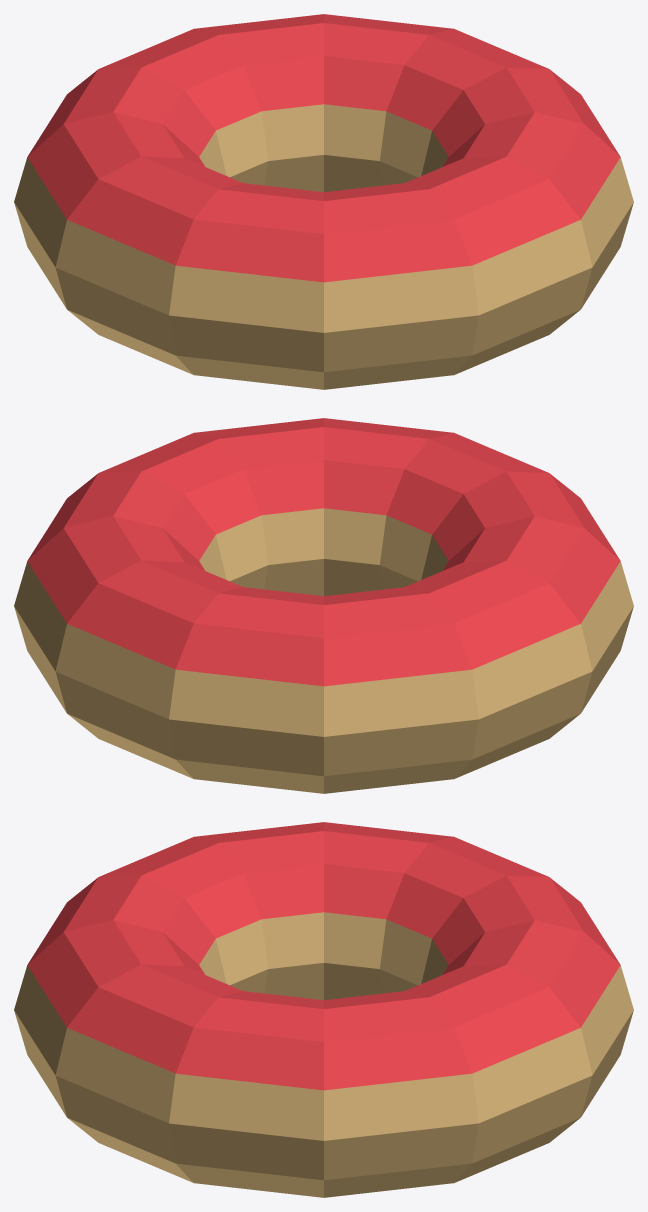
Rendered from donut.fbx.
3 renders of one model, top to bottom at view 1: azimuth 30°, elevation 25°; view 2: azimuth 150°, elevation 25°; view 3: azimuth 270°, elevation 25°, orthographic.
Visible parts, largest first — view 1: Donut; view 2: Donut; view 3: Donut.
Part boxes in pixels (x1,y1,x2,y2): Donut: (14,14,633,389); Donut: (14,418,633,793); Donut: (14,822,633,1197).
Bounding box in the file's own units: 23.85 × 7.63 × 23.85.
